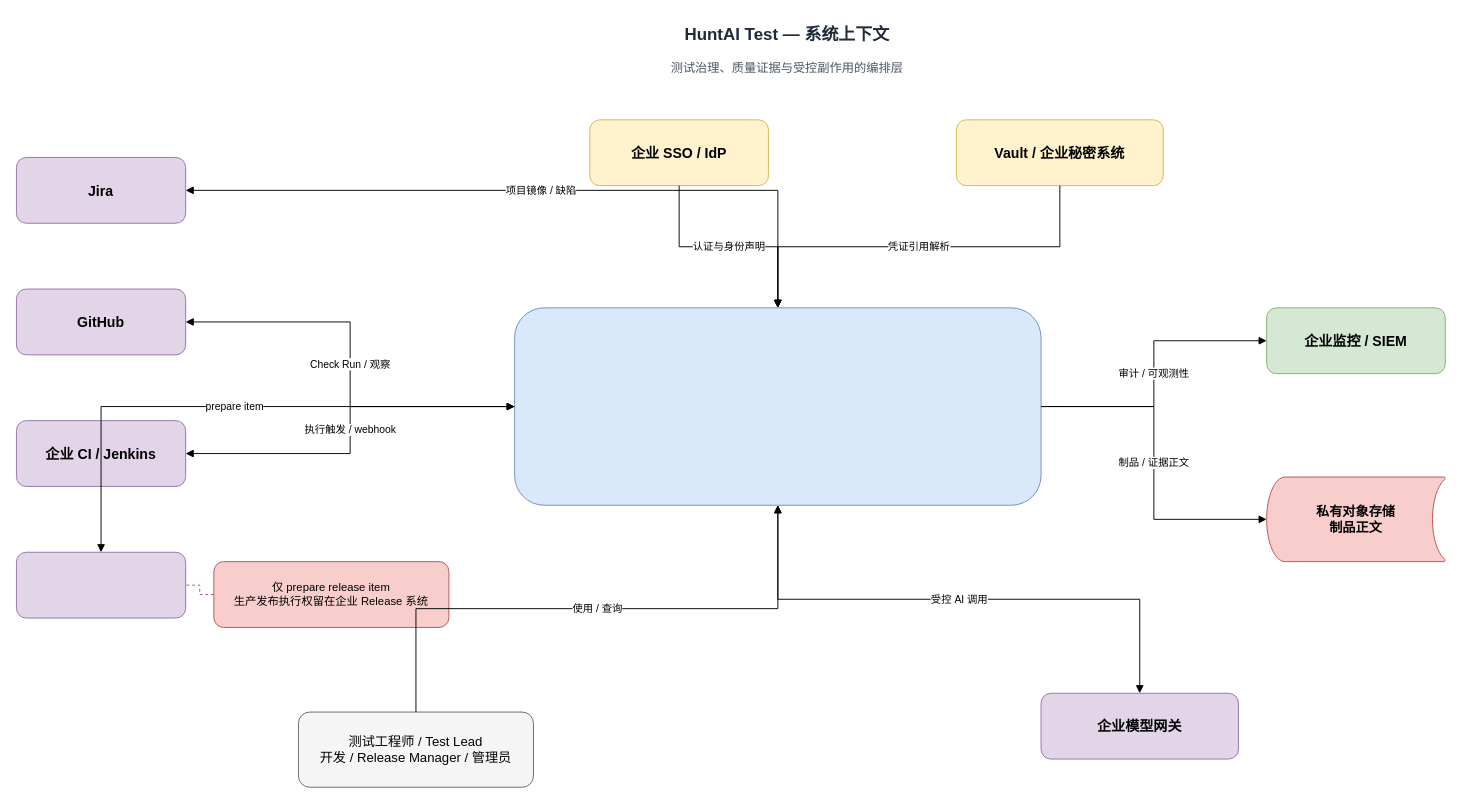
Image size: 1462x804. Some labels were removed from this diagram. Each missing label, with the centre of its shape:
HuntAI Test 模块化控制面：测试治理、质量证据、审批与受控副作用编排 不是 Jira、CI 或 Release 的替代品: point (777, 406)
企业 Release 系统: point (101, 584)
